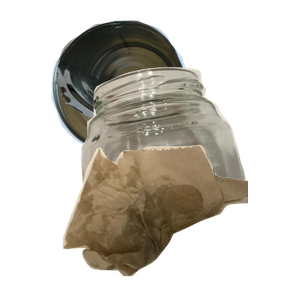glass: (74, 65, 300, 245)
metal: (49, 18, 229, 164)
plastic: (98, 176, 266, 300)
trash: (60, 142, 300, 300)
